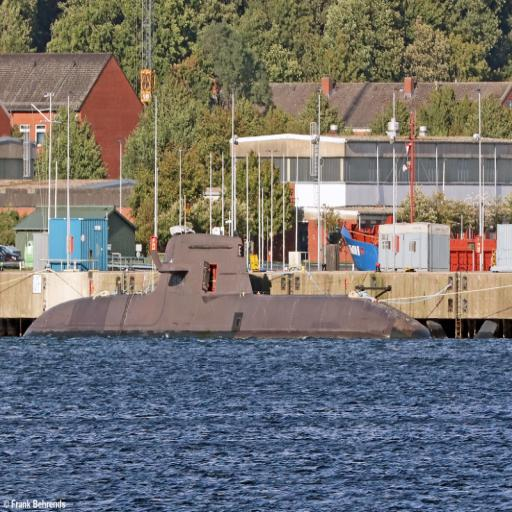submarine: (24, 236, 438, 339)
